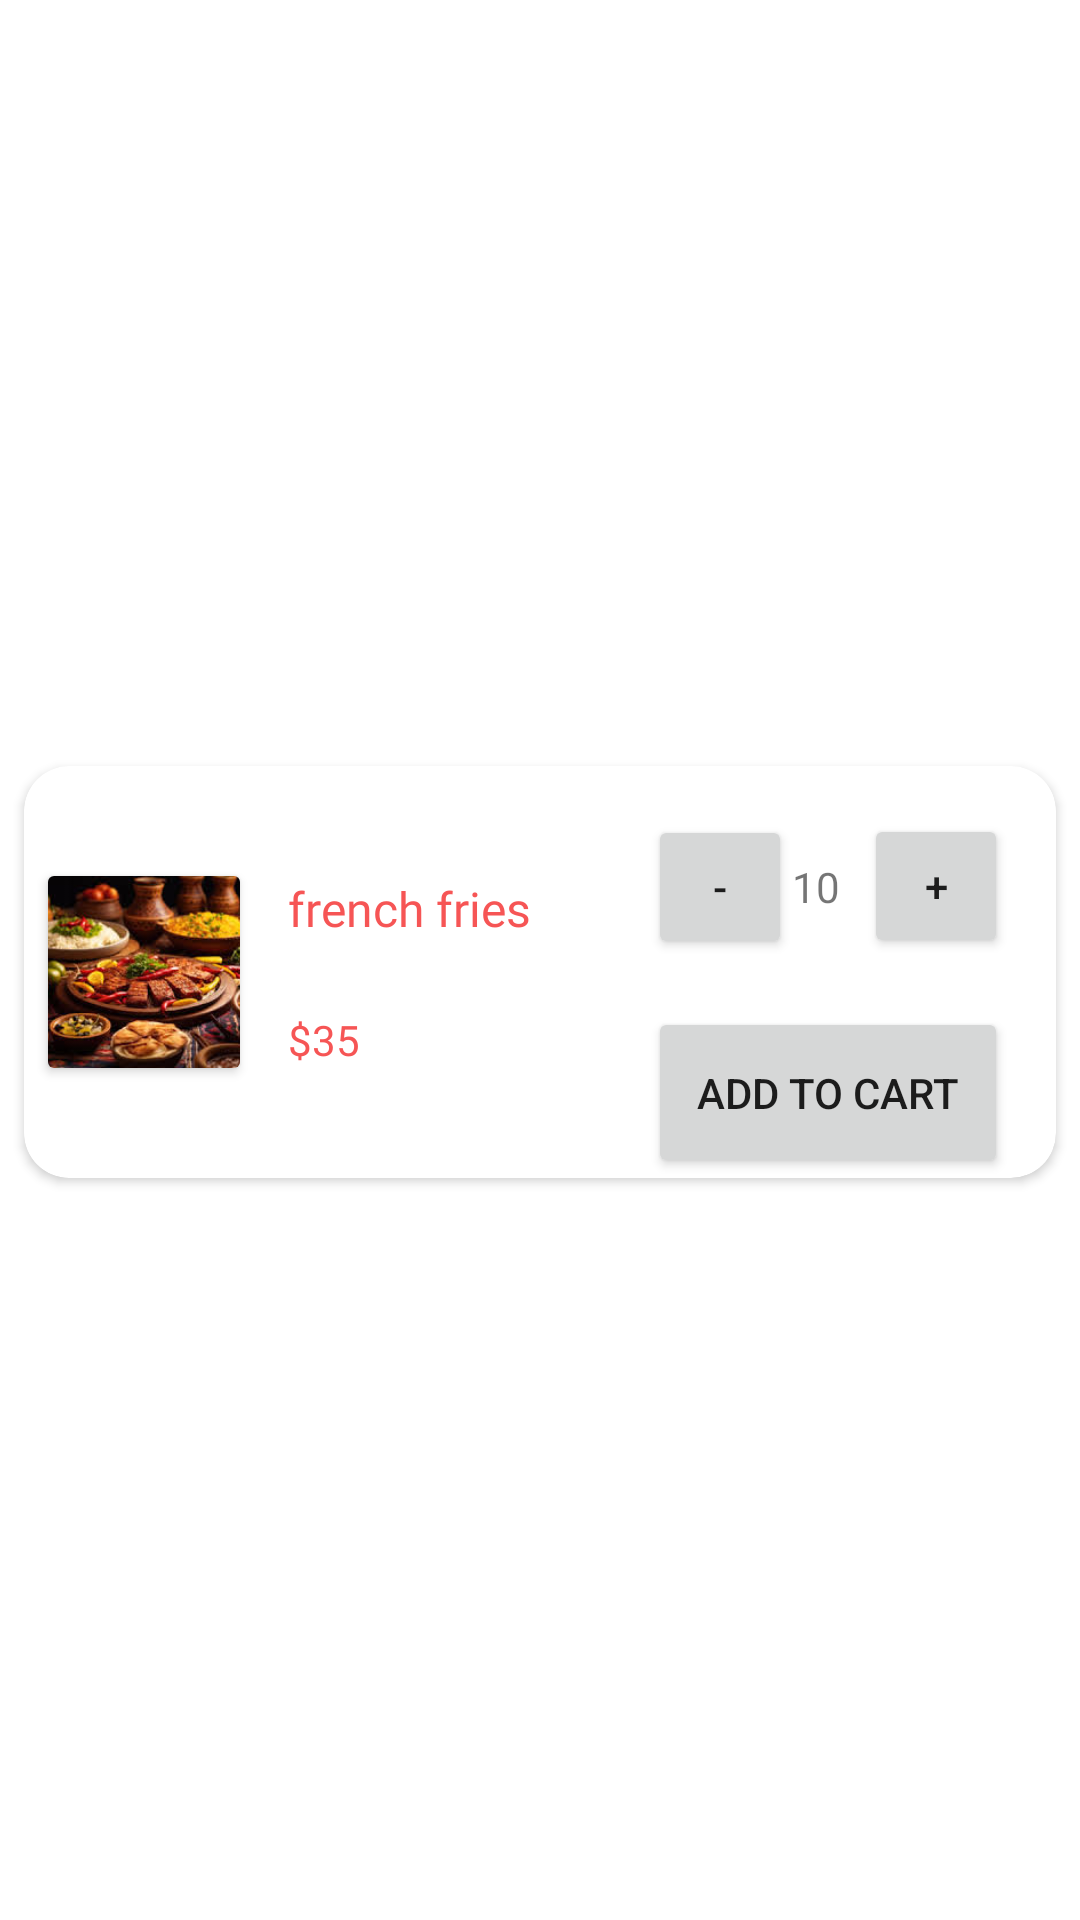

Named icons in this screenshot (1080px x 1920px) and their centers, [x,y]:
food: [144,972]
